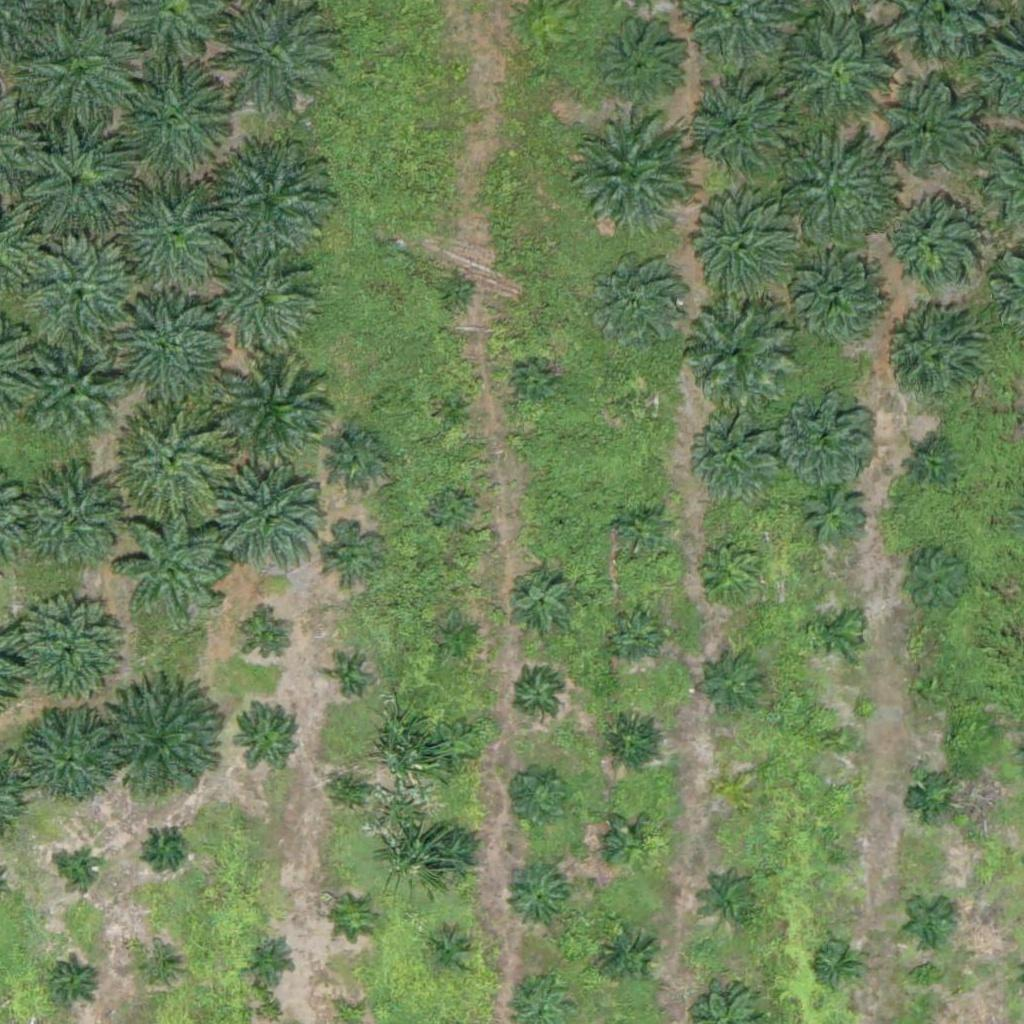Kelapa_Sawit: (15, 17, 140, 143), (9, 120, 134, 246), (17, 242, 142, 368), (104, 293, 229, 419), (112, 179, 237, 305), (107, 58, 232, 184), (205, 141, 330, 267), (216, 361, 341, 487), (565, 112, 690, 238), (777, 127, 902, 252), (106, 681, 231, 806), (676, 295, 789, 408), (780, 13, 893, 126), (118, 508, 231, 621), (7, 594, 120, 707), (683, 191, 795, 304), (215, 468, 327, 581), (119, 403, 231, 516), (216, 256, 316, 357), (586, 251, 686, 352), (689, 79, 789, 180), (787, 251, 887, 352), (877, 79, 977, 180), (879, 196, 979, 297), (877, 309, 977, 410), (782, 386, 882, 487), (17, 705, 117, 806), (23, 470, 123, 571), (27, 352, 114, 441), (598, 16, 685, 104), (695, 419, 782, 507), (498, 761, 573, 837), (230, 697, 305, 772), (896, 542, 971, 617), (421, 825, 484, 888), (317, 524, 380, 587), (327, 426, 390, 489), (701, 654, 764, 717), (600, 709, 663, 772), (610, 499, 673, 562), (506, 866, 568, 929), (596, 926, 658, 989), (704, 871, 766, 934), (507, 568, 569, 631), (803, 481, 865, 544), (701, 544, 763, 607), (425, 929, 475, 980), (244, 614, 294, 665), (809, 604, 859, 655), (432, 723, 482, 774), (906, 896, 956, 946), (606, 818, 656, 868), (813, 939, 863, 989), (49, 955, 99, 1005), (514, 670, 564, 720), (608, 611, 658, 661), (908, 776, 958, 826), (245, 934, 295, 984), (339, 899, 377, 937), (146, 827, 184, 865), (916, 672, 954, 710), (432, 490, 470, 528), (436, 392, 474, 430), (437, 273, 475, 311), (439, 616, 477, 654), (63, 853, 100, 891), (914, 448, 952, 485), (622, 386, 660, 423), (518, 366, 555, 404), (140, 951, 177, 989), (330, 661, 367, 698), (334, 771, 371, 808), (827, 841, 852, 866), (827, 725, 852, 750), (722, 779, 747, 804), (549, 516, 574, 541)
